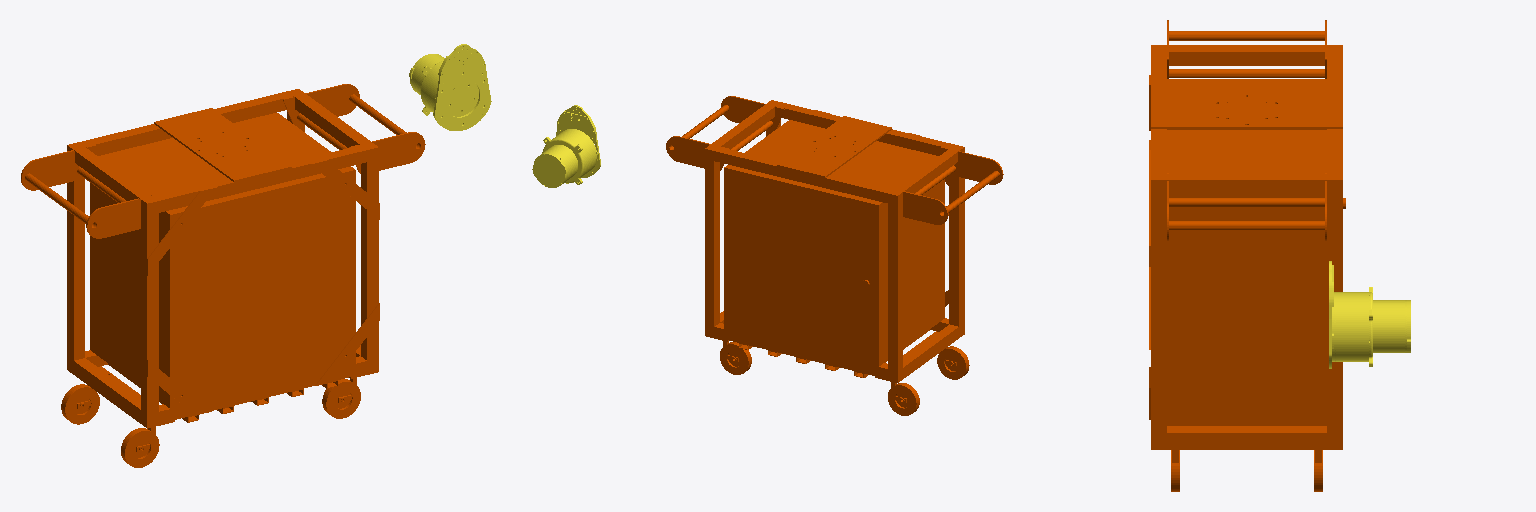
URDF robot description (custom_env):
<?xml version="1.0" ?>
<!-- =================================================================================== -->
<!-- |    This document was autogenerated by xacro from all.xacro                      | -->
<!-- |    EDITING THIS FILE BY HAND IS NOT RECOMMENDED                                 | -->
<!-- =================================================================================== -->
<robot name="custom_env">
  <!--
    Base UR robot series xacro macro.

    NOTE: this is NOT a URDF. It cannot directly be loaded by consumers
    expecting a flattened '.urdf' file. See the top-level '.xacro' for that
    (but note: that .xacro must still be processed by the xacro command).

    For use in '.launch' files: use one of the 'load_urX.launch' convenience
    launch files.

    This file models the base kinematic chain of a UR robot, which then gets
    parameterised by various configuration files to convert it into a UR3(e),
    UR5(e), UR10(e) or UR16e.

    NOTE: the default kinematic parameters (ie: link lengths, frame locations,
    offets, etc) do not correspond to any particular robot. They are defaults
    only. There WILL be non-zero offsets between the Forward Kinematics results
    in TF (ie: robot_state_publisher) and the values reported by the Teach
    Pendant.

    For accurate (and robot-specific) transforms, the 'kinematics_parameters_file'
    parameter MUST point to a .yaml file containing the appropriate values for
    the targetted robot.

    If using the UniversalRobots/Universal_Robots_ROS_Driver, follow the steps
    described in the readme of that repository to extract the kinematic
    calibration from the controller and generate the required .yaml file.

    Main author of the migration to yaml configs: [author].

    Contributors to previous versions (in no particular order):

     - [author]
     - [author]
     - [author]
     - [author]
     - [author]
     - [author]
     - [author]
     - [author]
     - [author]
     - [author]
     - [author]
     - [author]
     - [author]
     - [author]
     - [author]
     - [author]
     - [author]
  -->
  <!--
    NOTE: the macro defined in this file is NOT part of the public API of this
          package. Users CANNOT rely on this file being available, or stored in
          this location. Nor can they rely on the existence of the macro.
  -->
  <transmission name="shoulder_pan_trans">
    <type>transmission_interface/SimpleTransmission</type>
    <joint name="shoulder_pan_joint">
      <hardwareInterface>hardware_interface/PositionJointInterface</hardwareInterface>
    </joint>
    <actuator name="shoulder_pan_motor">
      <mechanicalReduction>1</mechanicalReduction>
    </actuator>
  </transmission>
  <transmission name="shoulder_lift_trans">
    <type>transmission_interface/SimpleTransmission</type>
    <joint name="shoulder_lift_joint">
      <hardwareInterface>hardware_interface/PositionJointInterface</hardwareInterface>
    </joint>
    <actuator name="shoulder_lift_motor">
      <mechanicalReduction>1</mechanicalReduction>
    </actuator>
  </transmission>
  <transmission name="elbow_trans">
    <type>transmission_interface/SimpleTransmission</type>
    <joint name="elbow_joint">
      <hardwareInterface>hardware_interface/PositionJointInterface</hardwareInterface>
    </joint>
    <actuator name="elbow_motor">
      <mechanicalReduction>1</mechanicalReduction>
    </actuator>
  </transmission>
  <transmission name="wrist_1_trans">
    <type>transmission_interface/SimpleTransmission</type>
    <joint name="wrist_1_joint">
      <hardwareInterface>hardware_interface/PositionJointInterface</hardwareInterface>
    </joint>
    <actuator name="wrist_1_motor">
      <mechanicalReduction>1</mechanicalReduction>
    </actuator>
  </transmission>
  <transmission name="wrist_2_trans">
    <type>transmission_interface/SimpleTransmission</type>
    <joint name="wrist_2_joint">
      <hardwareInterface>hardware_interface/PositionJointInterface</hardwareInterface>
    </joint>
    <actuator name="wrist_2_motor">
      <mechanicalReduction>1</mechanicalReduction>
    </actuator>
  </transmission>
  <transmission name="wrist_3_trans">
    <type>transmission_interface/SimpleTransmission</type>
    <joint name="wrist_3_joint">
      <hardwareInterface>hardware_interface/PositionJointInterface</hardwareInterface>
    </joint>
    <actuator name="wrist_3_motor">
      <mechanicalReduction>1</mechanicalReduction>
    </actuator>
  </transmission>
  <!-- links: main serial chain -->
  <link name="base_link"/>
  <link name="base_link_inertia">
    <visual>
      <origin rpy="0 0 3.141592653589793" xyz="0 0 0"/>
      <geometry>
        <mesh filename="package://ur_description/meshes/ur10/visual/base.dae"/>
      </geometry>
      <material name="LightGrey">
        <color rgba="0.7 0.7 0.7 1.0"/>
      </material>
    </visual>
    <collision>
      <origin rpy="0 0 3.141592653589793" xyz="0 0 0"/>
      <geometry>
        <mesh filename="package://ur_description/meshes/ur10/collision/base.stl"/>
      </geometry>
    </collision>
    <inertial>
      <mass value="4.0"/>
      <origin rpy="0 0 0" xyz="0 0 0"/>
      <inertia ixx="0.0061063308908" ixy="0.0" ixz="0.0" iyy="0.0061063308908" iyz="0.0" izz="0.01125"/>
    </inertial>
  </link>
  <link name="shoulder_link">
    <visual>
      <origin rpy="0 0 3.141592653589793" xyz="0 0 0"/>
      <geometry>
        <mesh filename="package://ur_description/meshes/ur10/visual/shoulder.dae"/>
      </geometry>
      <material name="LightGrey">
        <color rgba="0.7 0.7 0.7 1.0"/>
      </material>
    </visual>
    <collision>
      <origin rpy="0 0 3.141592653589793" xyz="0 0 0"/>
      <geometry>
        <mesh filename="package://ur_description/meshes/ur10/collision/shoulder.stl"/>
      </geometry>
    </collision>
    <inertial>
      <mass value="7.778"/>
      <origin rpy="0 0 0" xyz="0 0 0"/>
      <inertia ixx="0.03147431257693659" ixy="0.0" ixz="0.0" iyy="0.03147431257693659" iyz="0.0" izz="0.021875624999999996"/>
    </inertial>
  </link>
  <link name="upper_arm_link">
    <visual>
      <origin rpy="1.5707963267948966 0 -1.5707963267948966" xyz="0 0 0.220941"/>
      <geometry>
        <mesh filename="package://ur_description/meshes/ur10/visual/upperarm.dae"/>
      </geometry>
      <material name="LightGrey">
        <color rgba="0.7 0.7 0.7 1.0"/>
      </material>
    </visual>
    <collision>
      <origin rpy="1.5707963267948966 0 -1.5707963267948966" xyz="0 0 0.220941"/>
      <geometry>
        <mesh filename="package://ur_description/meshes/ur10/collision/upperarm.stl"/>
      </geometry>
    </collision>
    <inertial>
      <mass value="12.93"/>
      <origin rpy="0 1.5707963267948966 0" xyz="-0.306 0.0 0.175"/>
      <inertia ixx="0.42175380379841093" ixy="0.0" ixz="0.0" iyy="0.42175380379841093" iyz="0.0" izz="0.03636562499999999"/>
    </inertial>
  </link>
  <link name="forearm_link">
    <visual>
      <origin rpy="1.5707963267948966 0 -1.5707963267948966" xyz="0 0 0.049042"/>
      <geometry>
        <mesh filename="package://ur_description/meshes/ur10/visual/forearm.dae"/>
      </geometry>
      <material name="LightGrey">
        <color rgba="0.7 0.7 0.7 1.0"/>
      </material>
    </visual>
    <collision>
      <origin rpy="1.5707963267948966 0 -1.5707963267948966" xyz="0 0 0.049042"/>
      <geometry>
        <mesh filename="package://ur_description/meshes/ur10/collision/forearm.stl"/>
      </geometry>
    </collision>
    <inertial>
      <mass value="3.87"/>
      <origin rpy="0 1.5707963267948966 0" xyz="-0.28615 0.0 0.049042"/>
      <inertia ixx="0.11106969409710458" ixy="0.0" ixz="0.0" iyy="0.11106969409710458" iyz="0.0" izz="0.010884375"/>
    </inertial>
  </link>
  <link name="wrist_1_link">
    <visual>
      <!-- TODO: Move this to a parameter -->
      <origin rpy="1.5707963267948966 0 0" xyz="0 0 -0.1149"/>
      <geometry>
        <mesh filename="package://ur_description/meshes/ur10/visual/wrist1.dae"/>
      </geometry>
      <material name="LightGrey">
        <color rgba="0.7 0.7 0.7 1.0"/>
      </material>
    </visual>
    <collision>
      <origin rpy="1.5707963267948966 0 0" xyz="0 0 -0.1149"/>
      <geometry>
        <mesh filename="package://ur_description/meshes/ur10/collision/wrist1.stl"/>
      </geometry>
    </collision>
    <inertial>
      <mass value="1.96"/>
      <origin rpy="0 0 0" xyz="0 0 0"/>
      <inertia ixx="0.005108247956699999" ixy="0.0" ixz="0.0" iyy="0.005108247956699999" iyz="0.0" izz="0.005512499999999999"/>
    </inertial>
  </link>
  <link name="wrist_2_link">
    <visual>
      <origin rpy="0 0 0" xyz="0 0 -0.1158"/>
      <geometry>
        <mesh filename="package://ur_description/meshes/ur10/visual/wrist2.dae"/>
      </geometry>
      <material name="LightGrey">
        <color rgba="0.7 0.7 0.7 1.0"/>
      </material>
    </visual>
    <collision>
      <origin rpy="0 0 0" xyz="0 0 -0.1158"/>
      <geometry>
        <mesh filename="package://ur_description/meshes/ur10/collision/wrist2.stl"/>
      </geometry>
    </collision>
    <inertial>
      <mass value="1.96"/>
      <origin rpy="0 0 0" xyz="0 0 0"/>
      <inertia ixx="0.0040792483683" ixy="0.0" ixz="0.0" iyy="0.0040792483683" iyz="0.0" izz="0.005512499999999999"/>
    </inertial>
  </link>
  <link name="wrist_3_link">
    <visual>
      <origin rpy="1.5707963267948966 0 0" xyz="0 0 -0.0922"/>
      <geometry>
        <mesh filename="package://ur_description/meshes/ur10/visual/wrist3.dae"/>
      </geometry>
      <material name="LightGrey">
        <color rgba="0.7 0.7 0.7 1.0"/>
      </material>
    </visual>
    <collision>
      <origin rpy="1.5707963267948966 0 0" xyz="0 0 -0.0922"/>
      <geometry>
        <mesh filename="package://ur_description/meshes/ur10/collision/wrist3.stl"/>
      </geometry>
    </collision>
    <inertial>
      <mass value="0.202"/>
      <origin rpy="0 0 0" xyz="0.0 0.0 -0.01525"/>
      <inertia ixx="0.00011792166116465" ixy="0.0" ixz="0.0" iyy="0.00011792166116465" iyz="0.0" izz="0.00020452500000000002"/>
    </inertial>
  </link>
  <!-- joints: main serial chain -->
  <joint name="base_link-base_link_inertia" type="fixed">
    <parent link="base_link"/>
    <child link="base_link_inertia"/>
    <!-- 'base_link' is REP-103 aligned (so X+ forward), while the internal
           frames of the robot/controller have X+ pointing backwards.
           Use the joint between 'base_link' and 'base_link_inertia' (a dummy
           link/frame) to introduce the necessary rotation over Z (of pi rad).
      -->
    <origin rpy="0 0 3.141592653589793" xyz="0 0 0"/>
  </joint>
  <joint name="shoulder_pan_joint" type="revolute">
    <parent link="base_link_inertia"/>
    <child link="shoulder_link"/>
    <origin rpy="0 0 0" xyz="0 0 0.1273"/>
    <axis xyz="0 0 1"/>
    <limit effort="330.0" lower="-6.283185307179586" upper="6.283185307179586" velocity="2.0943951023931953"/>
    <dynamics damping="0" friction="0"/>
  </joint>
  <joint name="shoulder_lift_joint" type="revolute">
    <parent link="shoulder_link"/>
    <child link="upper_arm_link"/>
    <origin rpy="1.570796327 0 0" xyz="0 0 0"/>
    <axis xyz="0 0 1"/>
    <limit effort="330.0" lower="-6.283185307179586" upper="6.283185307179586" velocity="2.0943951023931953"/>
    <dynamics damping="0" friction="0"/>
  </joint>
  <joint name="elbow_joint" type="revolute">
    <parent link="upper_arm_link"/>
    <child link="forearm_link"/>
    <origin rpy="0 0 0" xyz="-0.612 0 0"/>
    <axis xyz="0 0 1"/>
    <limit effort="150.0" lower="-3.141592653589793" upper="3.141592653589793" velocity="3.141592653589793"/>
    <dynamics damping="0" friction="0"/>
  </joint>
  <joint name="wrist_1_joint" type="revolute">
    <parent link="forearm_link"/>
    <child link="wrist_1_link"/>
    <origin rpy="0 0 0" xyz="-0.5723 0 0.163941"/>
    <axis xyz="0 0 1"/>
    <limit effort="56.0" lower="-6.283185307179586" upper="6.283185307179586" velocity="3.141592653589793"/>
    <dynamics damping="0" friction="0"/>
  </joint>
  <joint name="wrist_2_joint" type="revolute">
    <parent link="wrist_1_link"/>
    <child link="wrist_2_link"/>
    <origin rpy="1.570796327 0 0" xyz="0 -0.1157 -2.373046667922381e-11"/>
    <axis xyz="0 0 1"/>
    <limit effort="56.0" lower="-6.283185307179586" upper="6.283185307179586" velocity="3.141592653589793"/>
    <dynamics damping="0" friction="0"/>
  </joint>
  <joint name="wrist_3_joint" type="revolute">
    <parent link="wrist_2_link"/>
    <child link="wrist_3_link"/>
    <origin rpy="1.570796326589793 3.141592653589793 3.141592653589793" xyz="0 0.0922 -1.891053610911353e-11"/>
    <axis xyz="0 0 1"/>
    <limit effort="56.0" lower="-6.283185307179586" upper="6.283185307179586" velocity="3.141592653589793"/>
    <dynamics damping="0" friction="0"/>
  </joint>
  <!-- ROS-Industrial 'base' frame: base_link to UR 'Base' Coordinates transform -->
  <link name="base"/>
  <joint name="base_link-base_fixed_joint" type="fixed">
    <!-- Note the rotation over Z of pi radians: as base_link is REP-103
           aligned (ie: has X+ forward, Y+ left and Z+ up), this is needed
           to correctly align 'base' with the 'Base' coordinate system of
           the UR controller.
      -->
    <origin rpy="0 0 3.141592653589793" xyz="0 0 0"/>
    <parent link="base_link"/>
    <child link="base"/>
  </joint>
  <!-- ROS-Industrial 'flange' frame: attachment point for EEF models -->
  <link name="flange"/>
  <joint name="wrist_3-flange" type="fixed">
    <parent link="wrist_3_link"/>
    <child link="flange"/>
    <origin rpy="0 -1.5707963267948966 -1.5707963267948966" xyz="0 0 0"/>
  </joint>
  <!-- ROS-Industrial 'tool0' frame: all-zeros tool frame -->
  <link name="tool0"/>
  <joint name="flange-tool0" type="fixed">
    <!-- default toolframe: X+ left, Y+ up, Z+ front -->
    <origin rpy="1.5707963267948966 0 1.5707963267948966" xyz="0 0 0"/>
    <parent link="flange"/>
    <child link="tool0"/>
  </joint>
  <joint name="enclosure_joint" type="fixed">
    <parent link="tool0"/>
    <child link="enclosure"/>
    <origin rpy="0 0 0" xyz="0 0 0"/>
  </joint>
  <link name="enclosure">
    <visual>
      <origin rpy="0 0 0" xyz="0 0 0"/>
      <geometry>
        <mesh filename="package://cgras_scene/meshes/visual/CameraEnclosure_NODEPTHCAM v2.stl" scale="0.001 0.001 0.001"/>
      </geometry>
    </visual>
    <collision>
      <origin rpy="0 0 0" xyz="0 0 0"/>
      <geometry>
        <mesh filename="package://cgras_scene/meshes/collision/CameraEnclosure_NODEPTHCAM v2.stl" scale="0.001 0.001 0.001"/>
      </geometry>
    </collision>
  </link>
  <!-- Reference Link for custom tool (Actual End of Tool for EE Control)-->
  <link name="ee_control_link"/>
  <joint name="ee_control_joint" type="fixed">
    <parent link="enclosure"/>
    <child link="ee_control_link"/>
    <origin rpy="0 0 3.141592653589793" xyz="0 -0.17914 0.24982"/>
  </joint>
  <!-- <link name="framos_link">
      <visual>
        <origin xyz="0 0 0" rpy="0 0 0"/>
        <geometry>
          <mesh filename="package://armer_descriptions/data/custom/cgras_descriptions/meshes/visual/d435E-V1-1 v0.stl" scale="0.001 0.001 0.001"/>
        </geometry>
      </visual>
      <collision>
        <origin xyz="0 0 0" rpy="0 0 0"/>
        <geometry>
          <mesh filename="package://armer_descriptions/data/custom/cgras_descriptions/meshes/collision/d435E-V1-1 v0.stl" scale="0.001 0.001 0.001"/>
        </geometry>
      </collision>
    </link> -->
  <!-- enclosure Joint Definitions (Includes Framos Model Individually)-->
  <!-- <joint name="framos_joint" type="fixed">
      <parent link="enclosure"/>
      <child link="framos_link"/>
      <origin xyz="0 -0.02657 0.096" rpy="0 0 0"/>
    </joint> -->
  <!-- <xacro:include filename="$(find realsense2_description)/urdf/_d435.urdf.xacro"/>
    <xacro:sensor_d435 parent="framos_link">
      <origin xyz="0.00455 -0.0125 0.0165" rpy="0 ${-pi/2} ${-pi/2}"/>
    </xacro:sensor_d435> -->
  <joint name="robot_base_to_robot_joint" type="fixed">
    <parent link="trolley_robot_base"/>
    <child link="base_link"/>
    <origin rpy="0 0 0" xyz="0 0 0"/>
  </joint>
  <link name="trolley">
    <visual>
      <origin rpy="0 0 0" xyz="0 0 0"/>
      <geometry>
        <mesh filename="package://cgras_scene/meshes/visual/CLIPS_Trolley.stl" scale="0.001 0.001 0.001"/>
      </geometry>
    </visual>
    <collision>
      <origin rpy="0 0 0" xyz="0 0 0"/>
      <geometry>
        <mesh filename="package://cgras_scene/meshes/collision/CLIPS_Trolley.stl" scale="0.001 0.001 0.001"/>
      </geometry>
    </collision>
  </link>
  <!-- Reference Link for trolley base link (to mount UR onto) -->
  <link name="trolley_robot_base"/>
  <!-- Currently dependent on type of robot and should be peeled out -->
  <joint name="trolley_to_base_joint" type="fixed">
    <parent link="trolley"/>
    <child link="trolley_robot_base"/>
    <origin rpy="0 0 0" xyz="0 0 1.100"/>
  </joint>
  <!--
  <xacro:tank_right xyz="0 -0.45 1.1" rpy="0 0 -${pi/2}" connected_to="trolley" />
  <xacro:tank_left xyz="0 0 0" rpy="0 0 0" connected_to="base_link" />
  <xacro:tank xyz="-0.5 0.75 0" rpy="${-pi/2} 0 ${pi/2}" connected_to="base_link" /> -->
  <!-- 
  <link name="world" />

  <joint name="world_to_trolley_joint" type="fixed">
    <parent link="world" />
    <child link="trolley" />
    <origin xyz="0.0 0.0 0.0" rpy="0.0 0.0 0.0" />
  </joint> -->
</robot>

--- What the picture shows (computed from the rendered views, not written in the file) ---
The picture shows the robot from 3 angles, left to right: view 1: azimuth 30°, elevation 25°; view 2: azimuth 150°, elevation 25°; view 3: azimuth 270°, elevation 25°; orthographic projection.
Model custom_env with 15 links and 14 joints (6 revolute, 8 fixed), rooted at trolley, posed every joint at zero.
Visible links, largest first — view 1: trolley, enclosure; view 2: trolley, enclosure; view 3: trolley, enclosure.
Boxes of the visible links, <box> form: trolley: <box>21,84,425,467</box>; enclosure: <box>409,44,491,130</box>; trolley: <box>666,96,1003,415</box>; enclosure: <box>532,105,600,187</box>; trolley: <box>1149,20,1345,491</box>; enclosure: <box>1329,261,1410,368</box>.
Bounding box of the posed robot: 2.04 × 0.8157 × 1.15 m (x, y, z).
2 mesh visuals loaded from 9 distinct referenced files (2 binary STL); not drawn: 7 (reference not matched to a file when rendering).